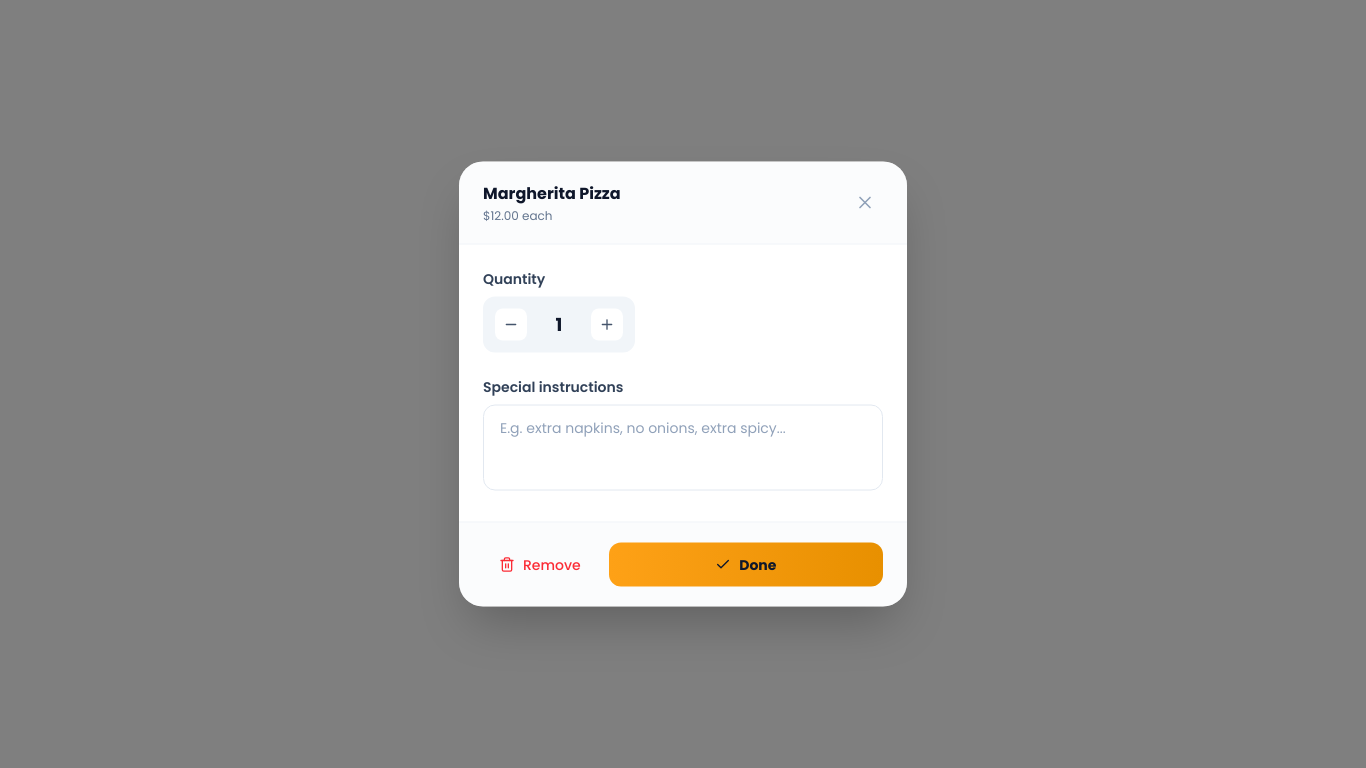
Scenario: CartItemEditModal › increment button increases quantity
Click the button named "Increase quantity": (607, 324) x1=591 y1=308 x2=623 y2=340
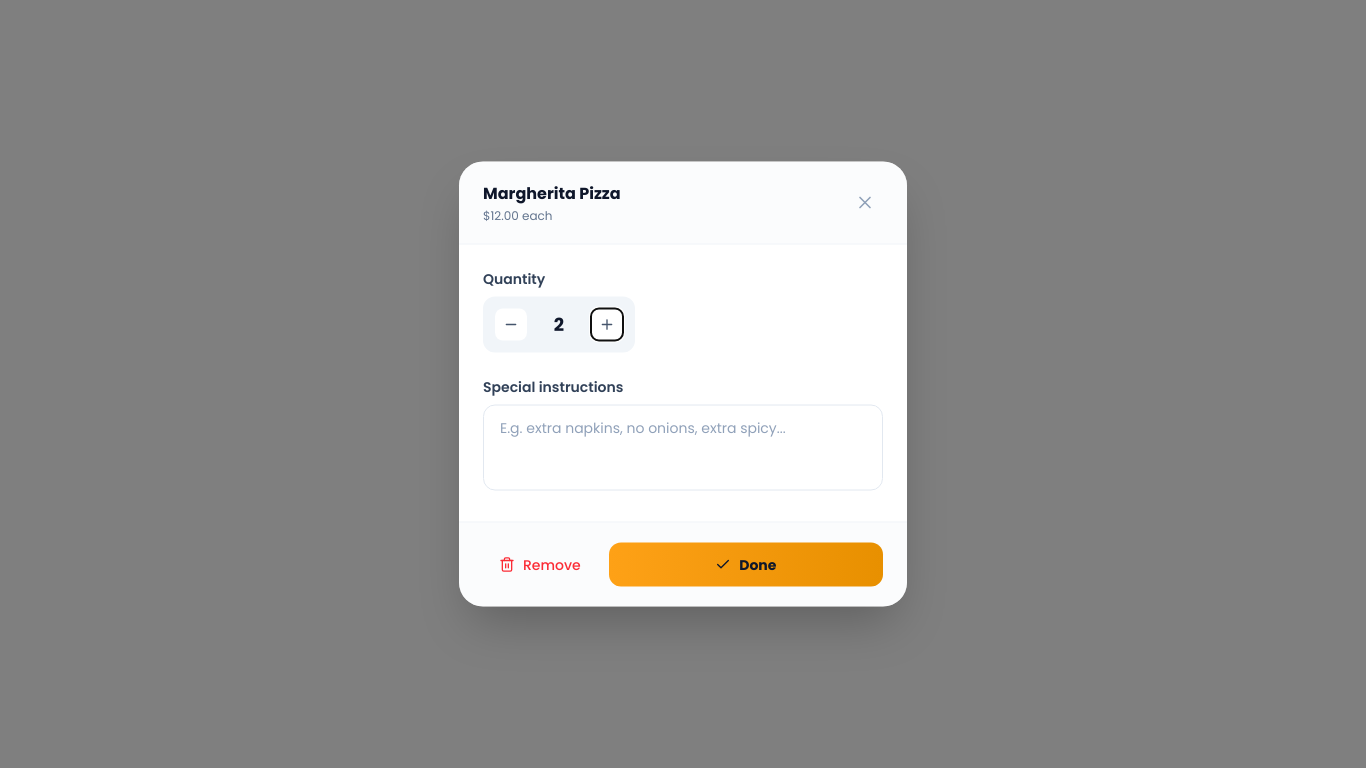
Check: the text "2" is shown, box x1=554 y1=312 x2=564 y2=336
